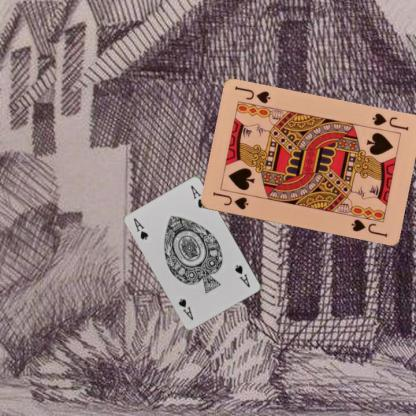As: (233, 262, 252, 288), (131, 216, 150, 242)
Js: (209, 189, 250, 211), (369, 110, 410, 132)
